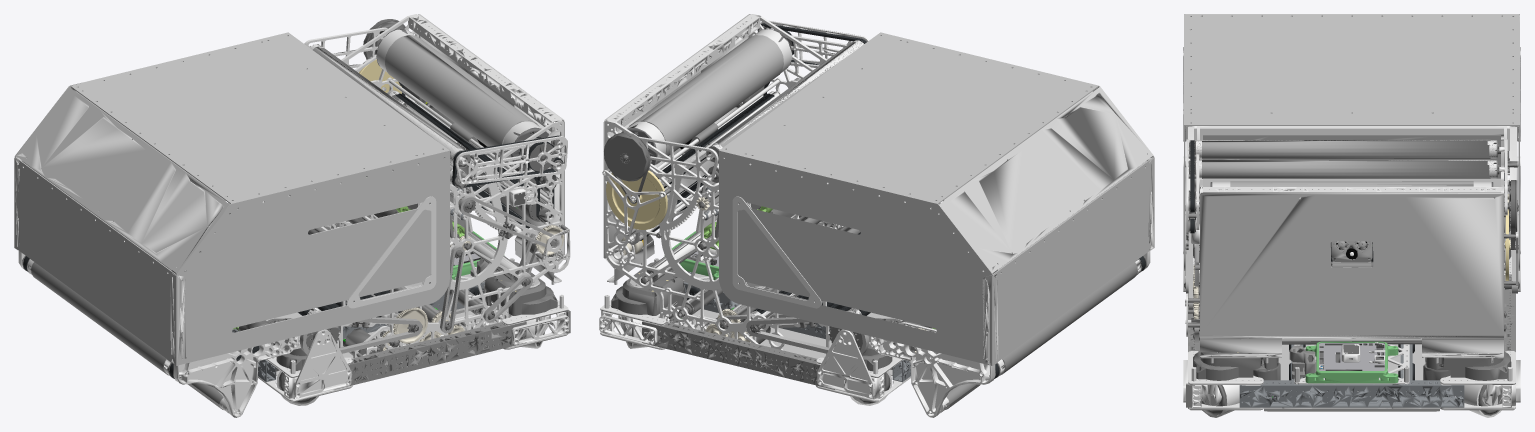
Rendered from reblitz-2910.glb.
3 renders of one model, left to right at view 1: azimuth 30°, elevation 25°; view 2: azimuth 150°, elevation 25°; view 3: azimuth 270°, elevation 25°, orthographic. The views are drawn at different scales.
Visible parts, largest first — view 1: hopper, frame, intake, hood, feeder; view 2: hopper, frame, intake, hood, feeder, flywheel; view 3: frame, hopper, hood, intake, feeder.
Boxes of the visible parts, x1=… form: hopper: x1=14, y1=32, x2=449, y2=365; frame: x1=171, y1=14, x2=570, y2=405; intake: x1=18, y1=251, x2=339, y2=417; hood: x1=304, y1=27, x2=567, y2=241; feeder: x1=298, y1=91, x2=538, y2=325; hopper: x1=719, y1=32, x2=1154, y2=365; frame: x1=599, y1=14, x2=997, y2=405; intake: x1=829, y1=251, x2=1150, y2=417; hood: x1=637, y1=20, x2=869, y2=241; feeder: x1=631, y1=91, x2=870, y2=324; flywheel: x1=606, y1=170, x2=667, y2=229; frame: x1=1183, y1=126, x2=1520, y2=417; hopper: x1=1183, y1=14, x2=1520, y2=270; hood: x1=1186, y1=139, x2=1507, y2=264; intake: x1=1186, y1=126, x2=1517, y2=239; feeder: x1=1282, y1=242, x2=1421, y2=344.
Size of the model in its own units: 0.9948 by 0.5524 by 0.7049.
